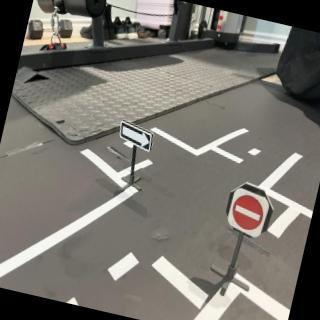sign_noentry: (224, 186, 276, 242)
sign_oneway_right: (114, 120, 158, 156)
